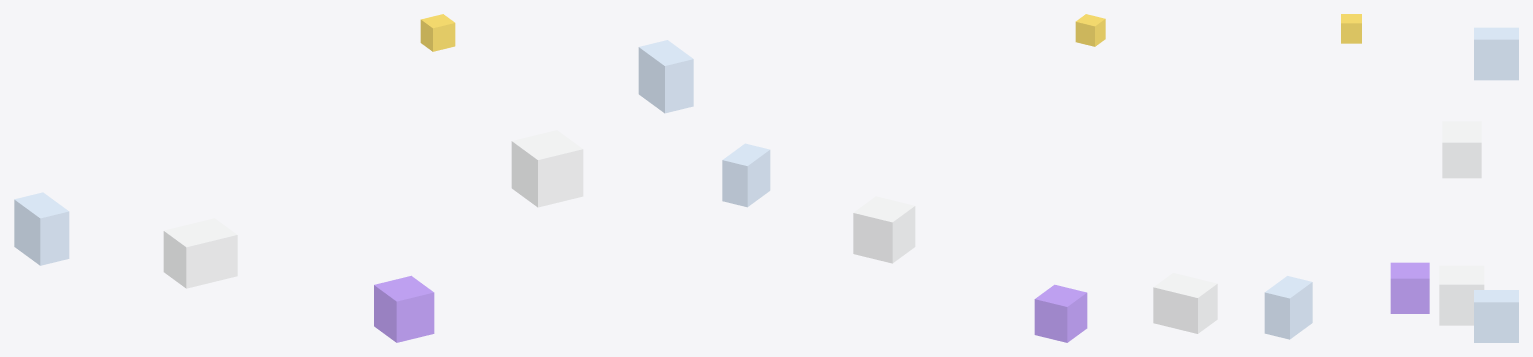
3 views of the same model, side by side, from view 1: azimuth 30°, elevation 25°; view 2: azimuth 150°, elevation 25°; view 3: azimuth 270°, elevation 25° (orthographic). The views are drawn at different scales.
Visible parts, largest first — view 1: Conditioned up path, Conditioned down path, Noisy latent / input, Denoised output, Mid / bottleneck, Timestep conditioning; view 2: Conditioned up path, Conditioned down path, Denoised output, Noisy latent / input, Mid / bottleneck, Timestep conditioning; view 3: Noisy latent / input, Conditioned up path, Denoised output, Conditioned down path, Mid / bottleneck, Timestep conditioning.
Boxes of the visible parts, left/top/right/bottom form: Conditioned up path: left=511, top=130, right=583, bottom=207; Conditioned down path: left=163, top=218, right=237, bottom=288; Noisy latent / input: left=14, top=192, right=69, bottom=265; Denoised output: left=638, top=40, right=693, bottom=113; Mid / bottleneck: left=374, top=275, right=434, bottom=342; Timestep conditioning: left=420, top=14, right=455, bottom=51; Conditioned up path: left=853, top=196, right=915, bottom=263; Conditioned down path: left=1153, top=273, right=1217, bottom=333; Denoised output: left=722, top=143, right=770, bottom=207; Noisy latent / input: left=1264, top=276, right=1312, bottom=339; Mid / bottleneck: left=1034, top=284, right=1087, bottom=342; Timestep conditioning: left=1075, top=14, right=1105, bottom=46; Noisy latent / input: left=1474, top=27, right=1518, bottom=80; Conditioned up path: left=1439, top=265, right=1484, bottom=325; Denoised output: left=1474, top=290, right=1518, bottom=342; Conditioned down path: left=1442, top=121, right=1481, bottom=178; Mid / bottleneck: left=1390, top=262, right=1429, bottom=313; Timestep conditioning: left=1341, top=14, right=1361, bottom=43.
Bounding box in the file's own units: 34.84 × 17.01 × 9.54.
